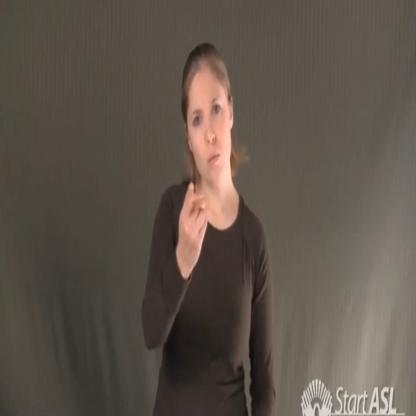HowAreYou: (142, 44, 280, 416)
